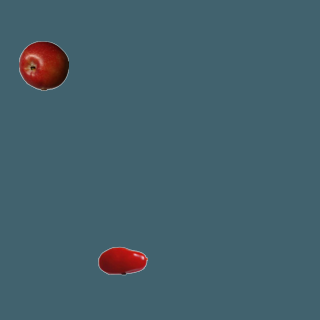Apple Braeburn: (18, 40, 68, 90)
Tomato 2: (97, 235, 147, 285)
